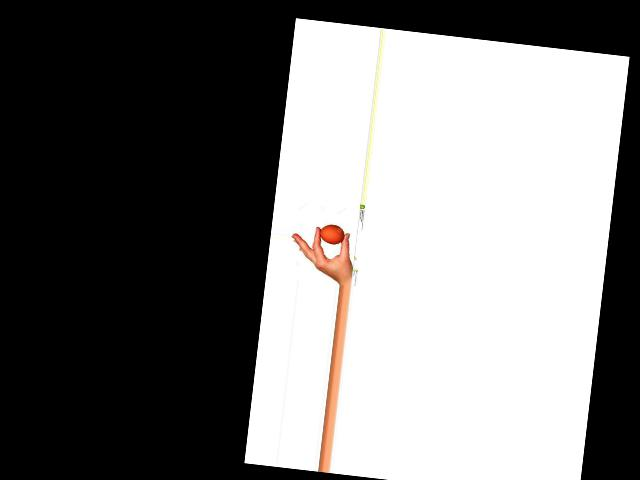egg: (319, 223, 346, 246)
